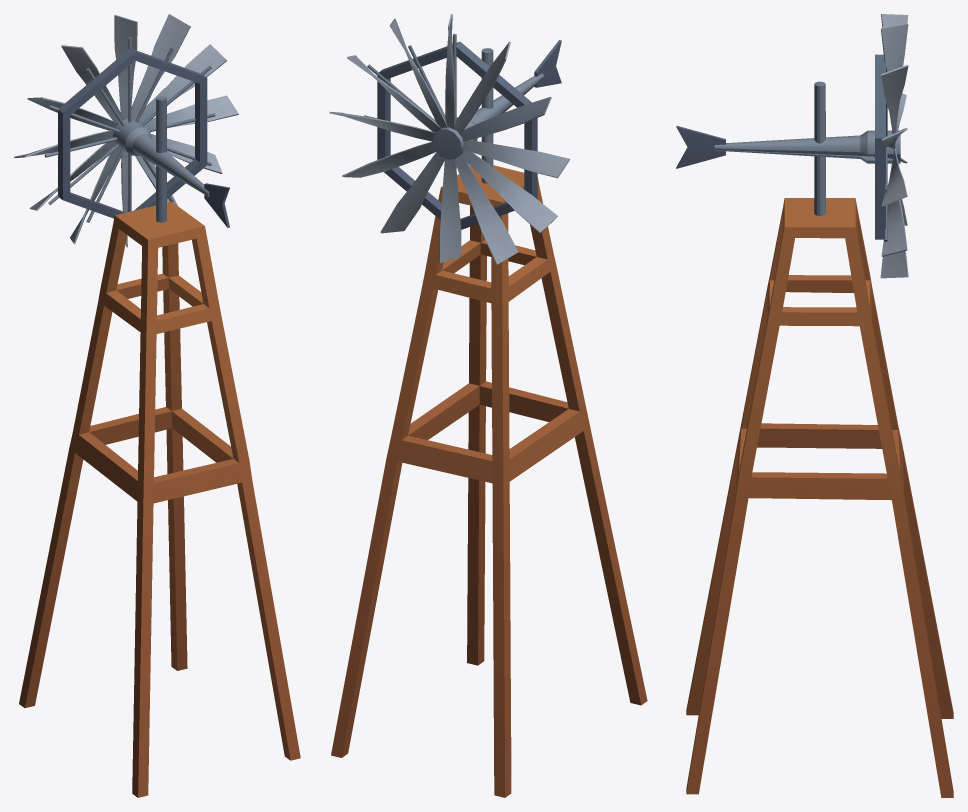
Rendered from Windmill.fbx.
The picture shows the model from 3 angles, left to right: view 1: azimuth 30°, elevation 25°; view 2: azimuth 150°, elevation 25°; view 3: azimuth 270°, elevation 25°; orthographic projection. The views are drawn at different scales.
Parts seen in each view (by area): view 1: pCylinder3, pCube15; view 2: pCylinder3, pCube15; view 3: pCylinder3, pCube15.
Part boxes in pixels (<box>): pCylinder3: <box>19,96,300,797</box>; pCube15: <box>14,14,238,247</box>; pCylinder3: <box>331,48,647,797</box>; pCube15: <box>329,14,569,264</box>; pCylinder3: <box>686,81,953,797</box>; pCube15: <box>676,14,908,278</box>.
Bounding box in the file's own units: 20.88 × 64.37 × 22.24.
